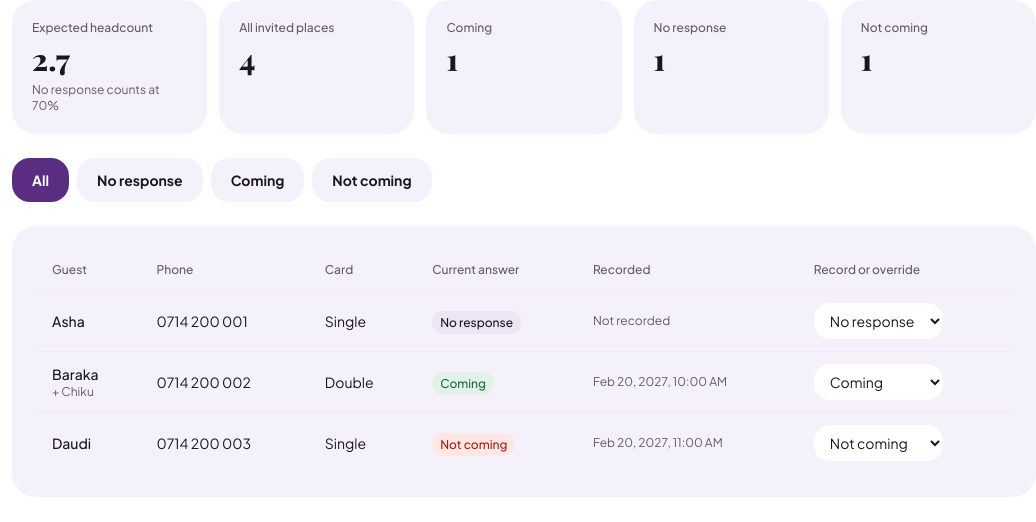
Scenario: ConfirmationsManager › records an override, sends the API key, and updates expected headcount
Select "Not coming" in the dropdown named "Record or override Asha": (878, 321) [814,303,943,339]
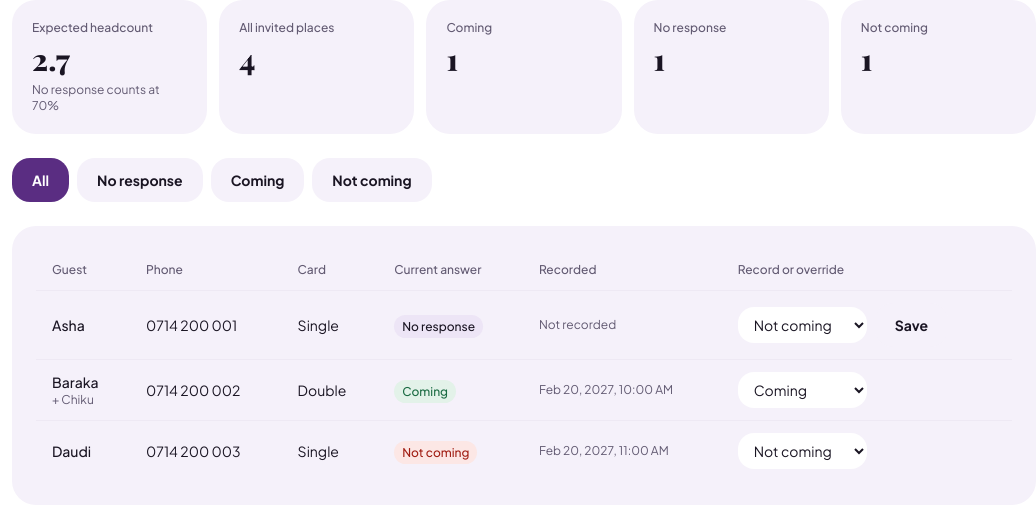
Click the button "Save": (911, 325) [875,303,948,347]
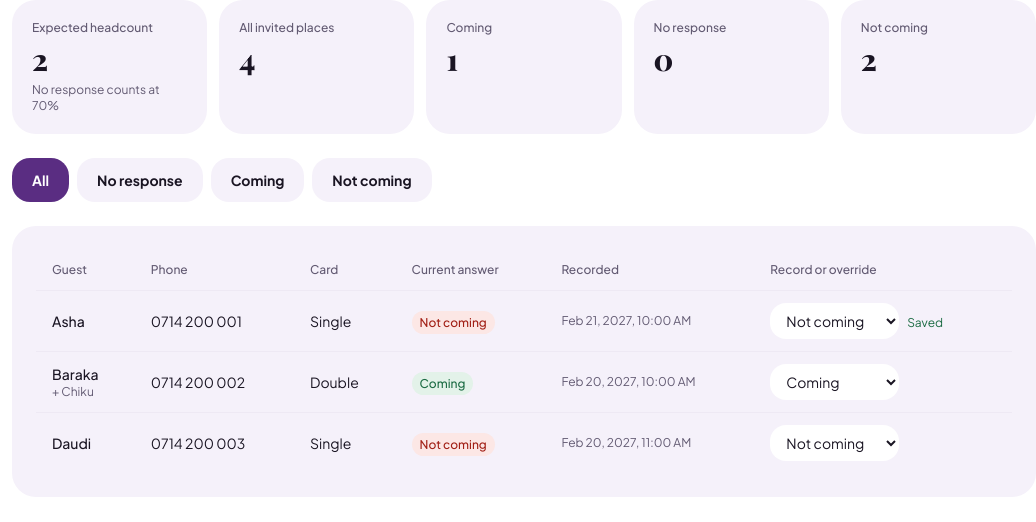
expect the text "2" below "Expected headcount" is shown: met, box [32,39,48,79]
expect the text "Saved" is shown: met, box [907,315,943,330]
